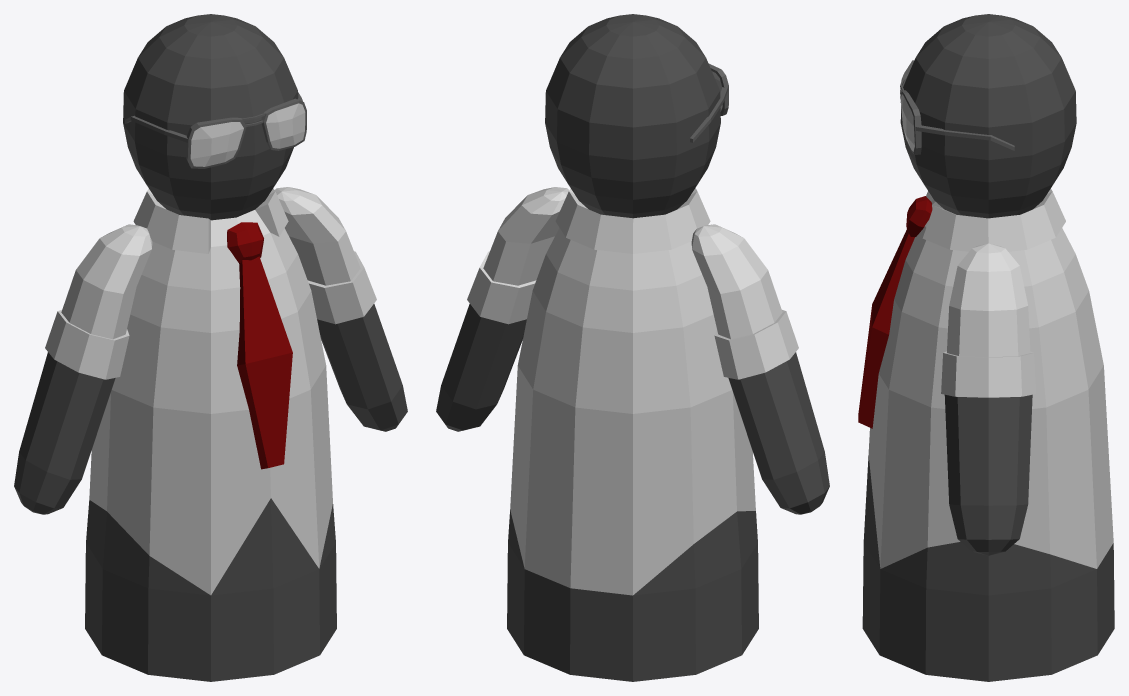
The model's file is playerModel.fbx.
The picture shows the model from 3 angles, left to right: view 1: azimuth 30°, elevation 25°; view 2: azimuth 150°, elevation 25°; view 3: azimuth 270°, elevation 25°; orthographic projection.
Parts seen in each view (by area): view 1: polySurface14; view 2: polySurface14; view 3: polySurface14.
Part boxes in pixels (<box>): polySurface14: <box>14,14,407,681</box>; polySurface14: <box>436,14,829,681</box>; polySurface14: <box>858,14,1114,681</box>.
Size of the model in its own units: 334 by 504 by 193.
